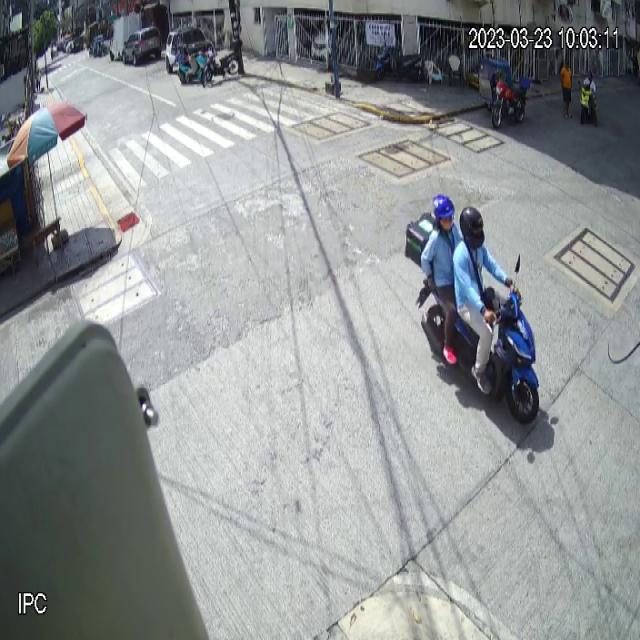Motorcycle: (406, 212, 541, 428)
Tricycle: (478, 55, 530, 128)
